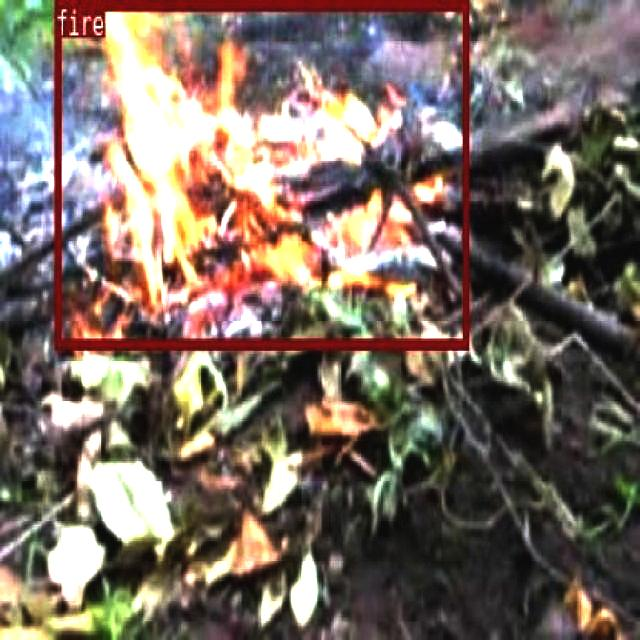fire: (54, 0, 468, 346)
